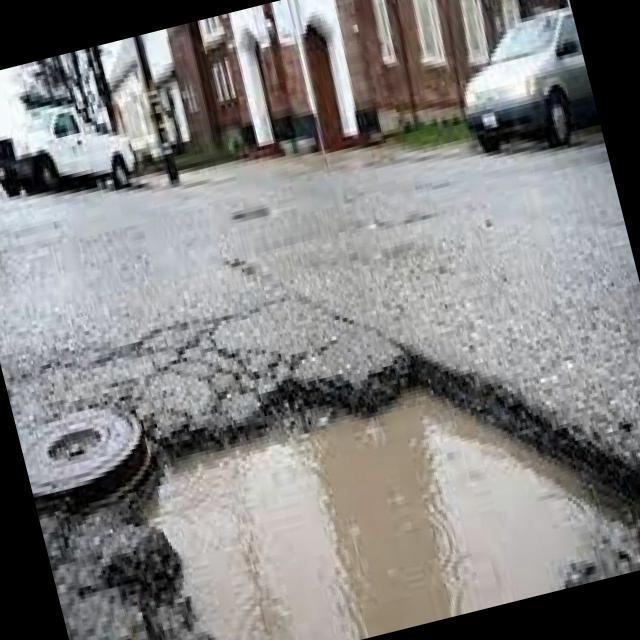Pothole: (65, 382, 640, 640)
